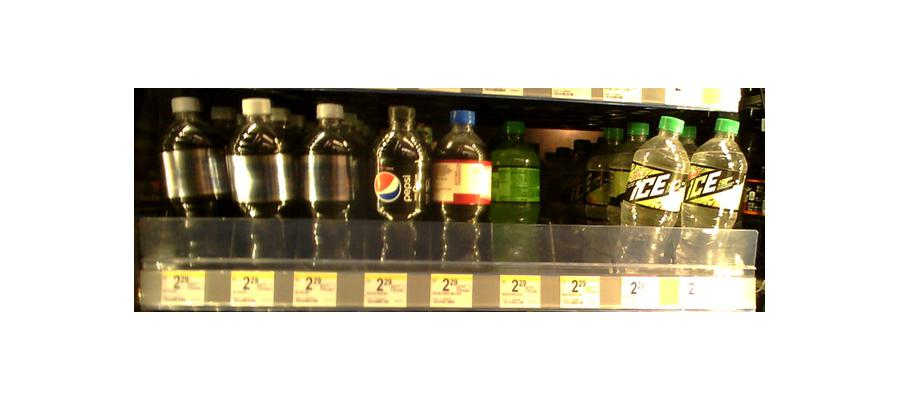bottle: (157, 100, 238, 266), (227, 97, 292, 265), (619, 115, 688, 269), (683, 113, 747, 271), (300, 100, 360, 267), (431, 106, 488, 266), (371, 107, 425, 264), (491, 115, 543, 266)
